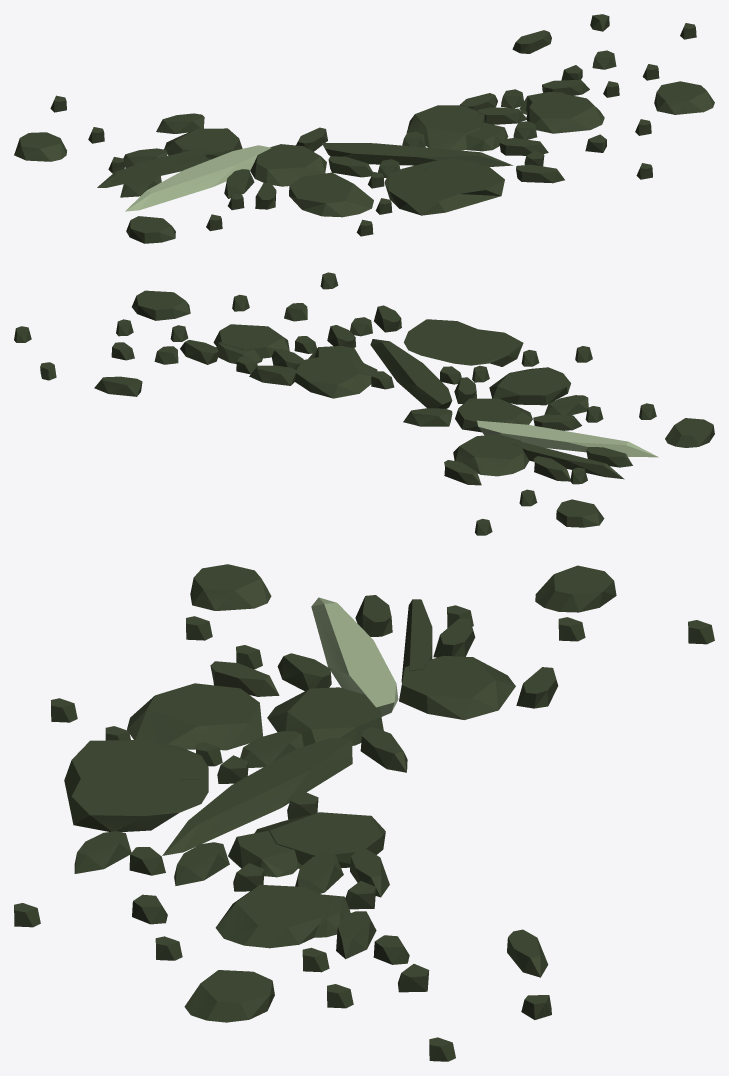
The model's file is EA_Swamp_Stones_04d.glb.
3 views of the same model, one above another, from view 1: azimuth 30°, elevation 25°; view 2: azimuth 150°, elevation 25°; view 3: azimuth 270°, elevation 25° (orthographic). The views are drawn at different scales.
Parts seen in each view (by area): view 1: EA_Swamp_Stones_04d; view 2: EA_Swamp_Stones_04d; view 3: EA_Swamp_Stones_04d.
Boxes of the visible parts, x1,y1,x2,y2 form: EA_Swamp_Stones_04d: (14,14,714,243); EA_Swamp_Stones_04d: (14,272,714,535); EA_Swamp_Stones_04d: (14,564,714,1061).
Size of the model in its own units: 8.69 by 0.1394 by 5.31.
1 material, 1 textured.
